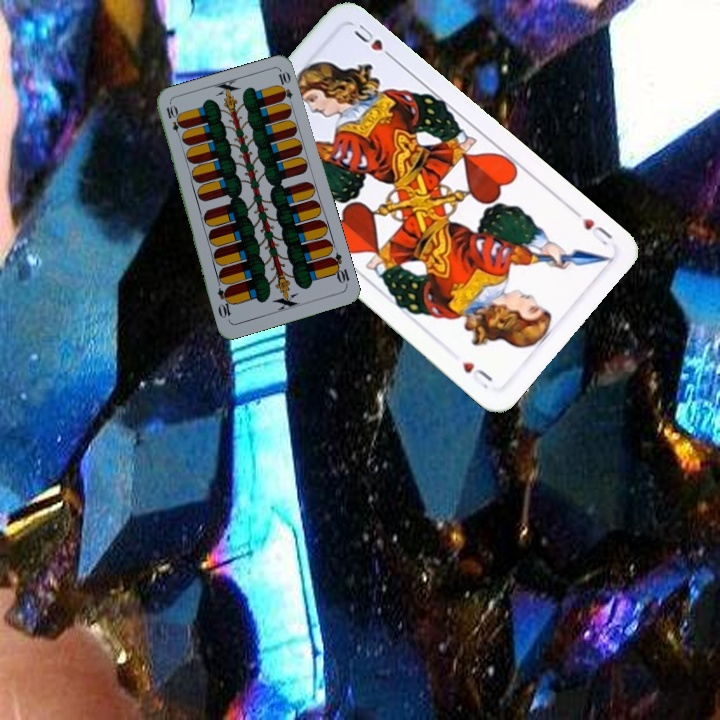E10: (326, 249, 353, 289), (162, 101, 185, 141)
HU: (578, 213, 616, 248)
